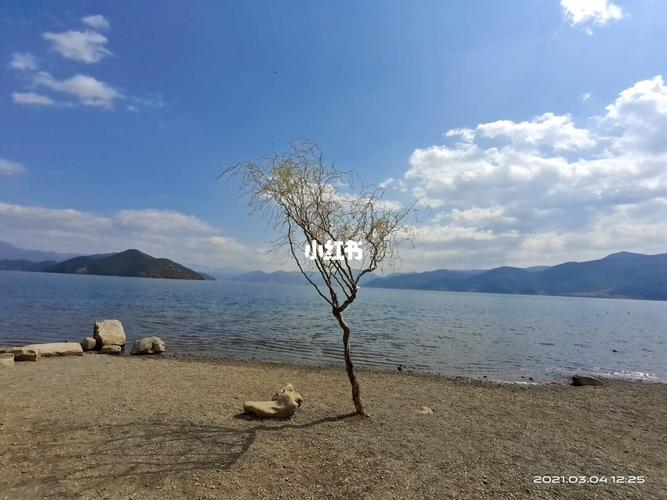mountain: (365, 240, 659, 311)
sky_cloud: (327, 73, 652, 251)
